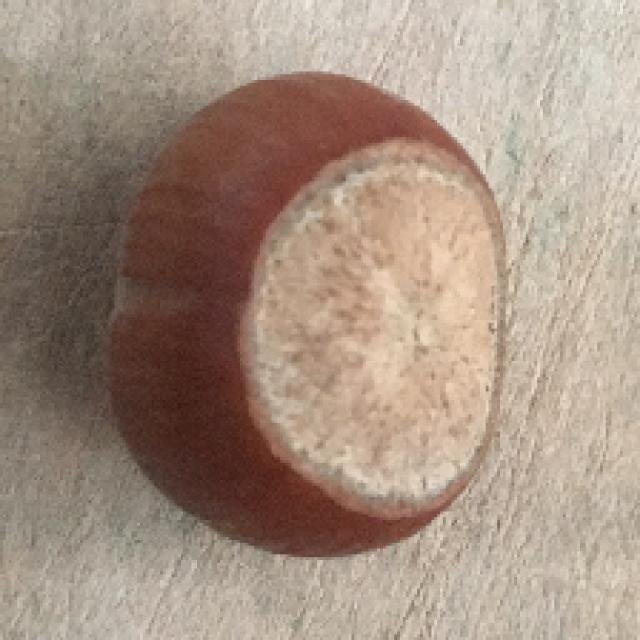QualityHazelnut: (108, 73, 516, 555)
